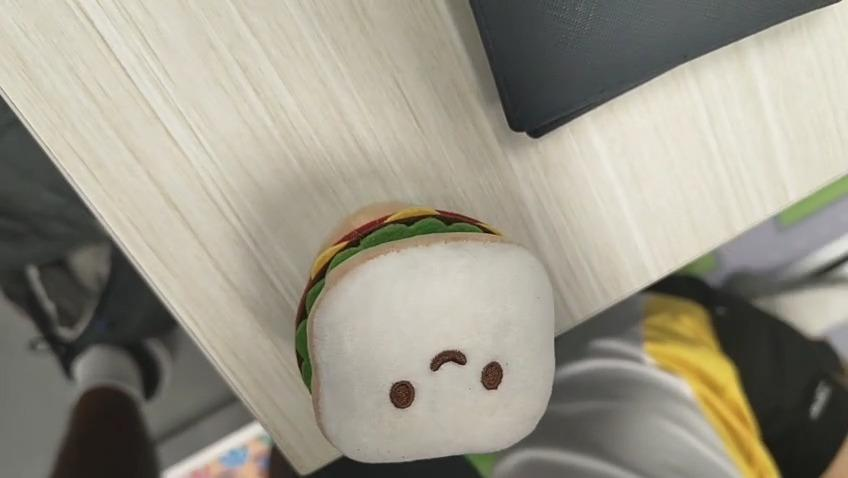objects: (297, 204, 558, 466)
